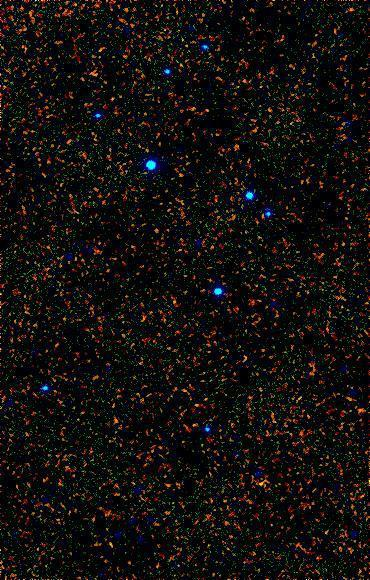star: (251, 468, 281, 498)
